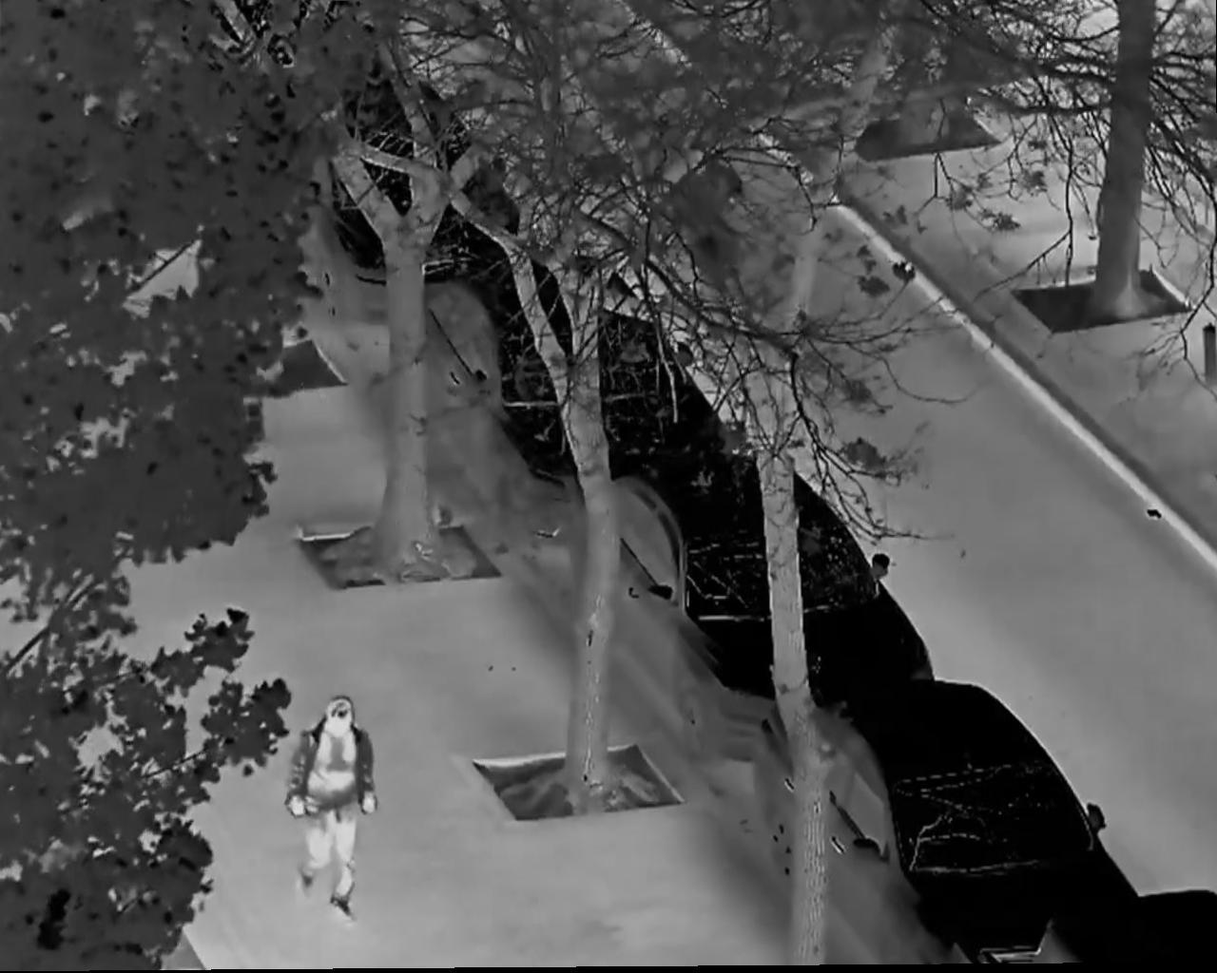person: (283, 696, 379, 929)
